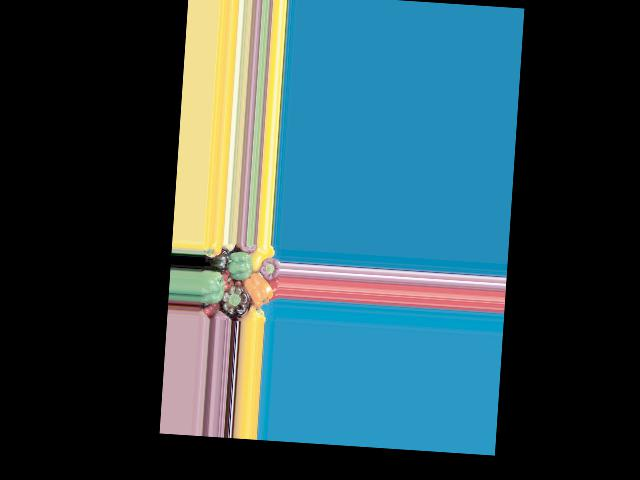bell_pepper: (198, 271, 222, 305)
